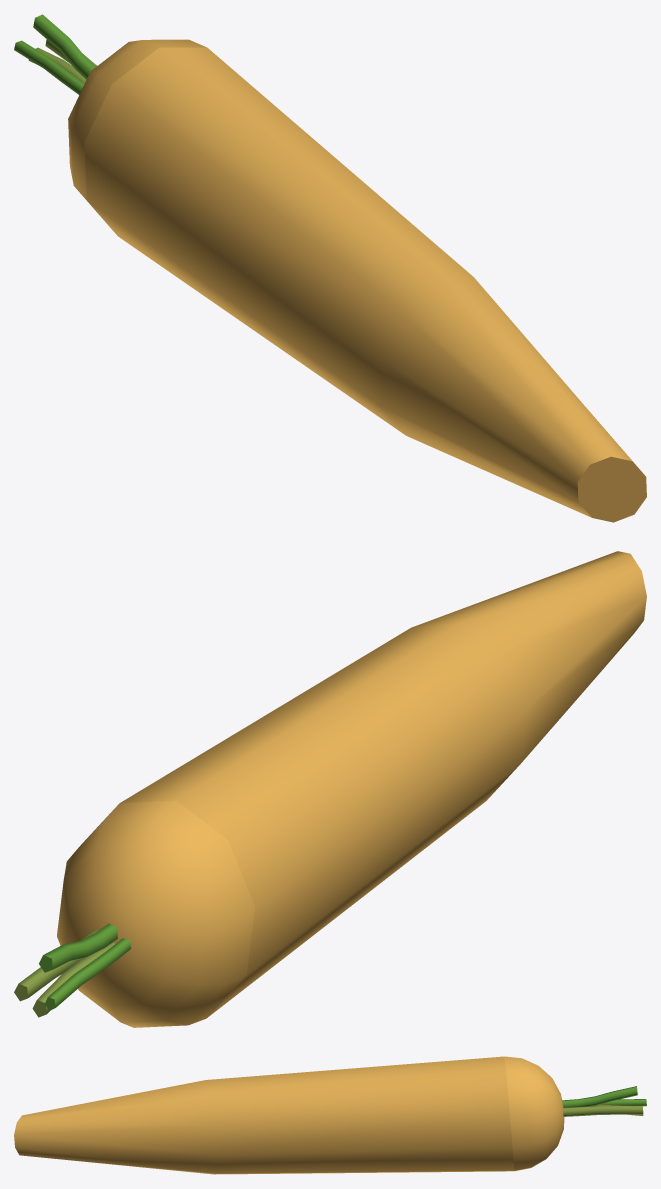
The model's file is Carotte.fbx.
The picture shows the model from 3 angles, top to bottom: view 1: azimuth 30°, elevation 25°; view 2: azimuth 150°, elevation 25°; view 3: azimuth 270°, elevation 25°; orthographic projection. The views are drawn at different scales.
Parts seen in each view (by area): view 1: polySurface1, polySurface2, polySurface3; view 2: polySurface1, polySurface2, polySurface3, polySurface5, polySurface4; view 3: polySurface1, polySurface5, polySurface2, polySurface3.
Part boxes in pixels (left/top/right/bottom): polySurface1: left=68, top=39, right=646, bottom=522; polySurface2: left=33, top=14, right=95, bottom=79; polySurface3: left=14, top=40, right=84, bottom=94; polySurface1: left=57, top=551, right=646, bottom=1027; polySurface2: left=39, top=923, right=117, bottom=972; polySurface3: left=45, top=938, right=130, bottom=1010; polySurface5: left=14, top=929, right=98, bottom=1001; polySurface4: left=32, top=942, right=115, bottom=1017; polySurface1: left=14, top=1056, right=564, bottom=1174; polySurface5: left=563, top=1105, right=643, bottom=1116; polySurface2: left=562, top=1086, right=637, bottom=1107; polySurface3: left=602, top=1099, right=646, bottom=1106.
Size of the model in its own units: 0.0375 by 0.0443 by 0.2273.
